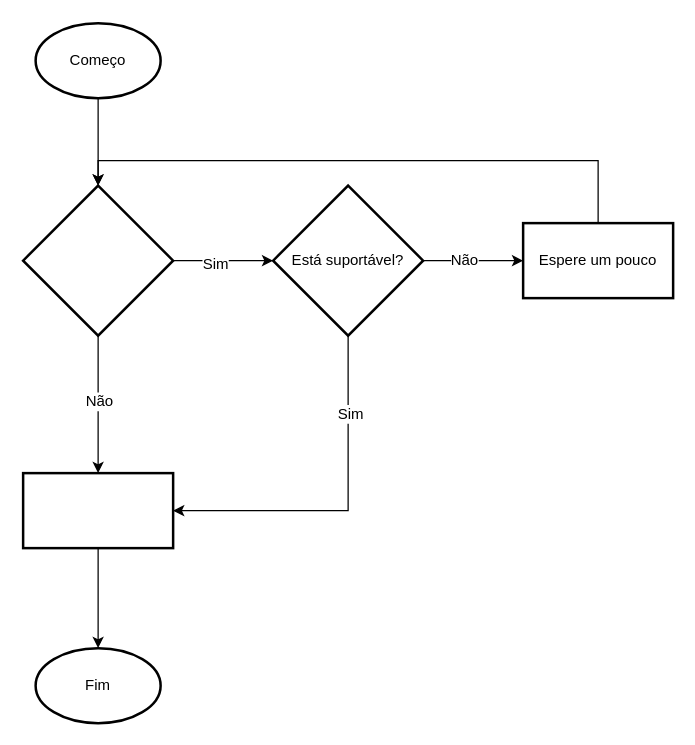
Image size: 695x745. Some labels were removed from this diagram. Each missing label, with the centre of its shape:
"Está quente?" belongs at (97,260).
"Saia" belongs at (97,510).
